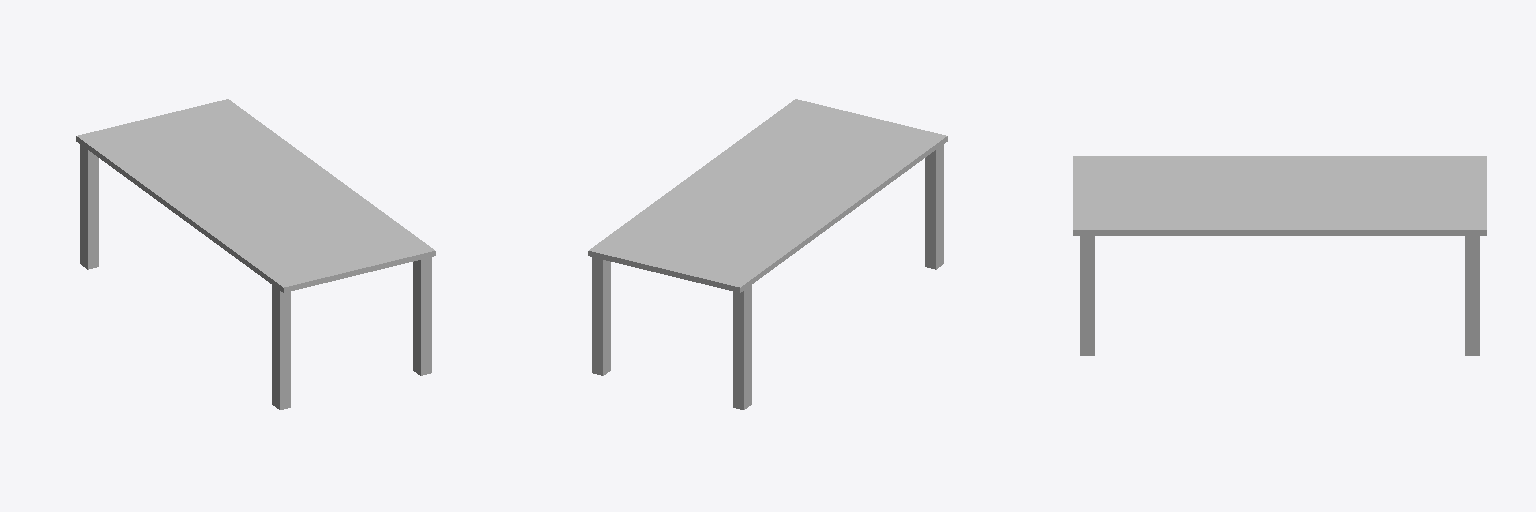
The model's file is table.obj.
The picture shows the model from 3 angles: view 1: azimuth 30°, elevation 25°; view 2: azimuth 150°, elevation 25°; view 3: azimuth 270°, elevation 25°; orthographic projection.
Visible parts, largest first — view 1: Cube; view 2: Cube; view 3: Cube.
Part boxes in pixels (bbox=[...]): Cube: bbox=[76, 99, 435, 409]; Cube: bbox=[588, 99, 947, 409]; Cube: bbox=[1073, 156, 1486, 355].
Bounding box in the file's own units: 2 × 1.58 × 4.73.